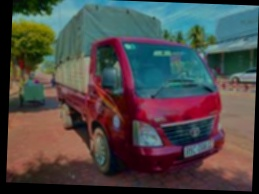Bien-so: (192, 128, 226, 151)
